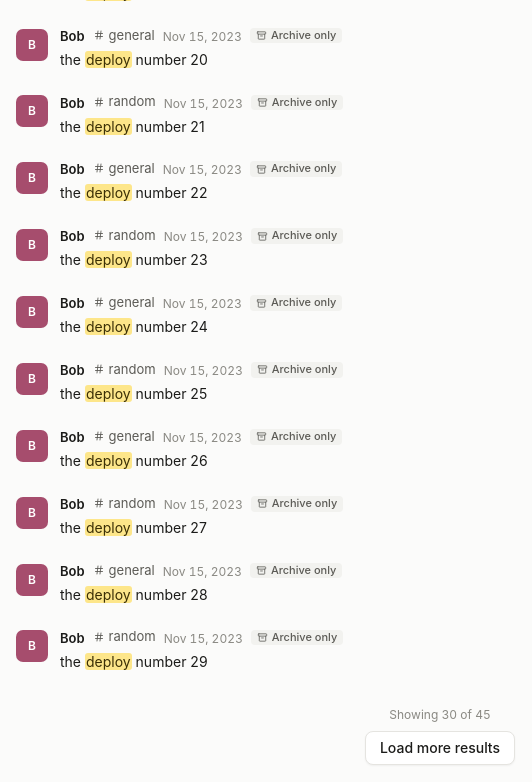
Test: SearchPage › loads more results with the next offset
(page scrolled)
Click the button "Load more results".
click(440, 748)  # box top-left (365, 731), bottom-right (515, 765)
(page scrolled)
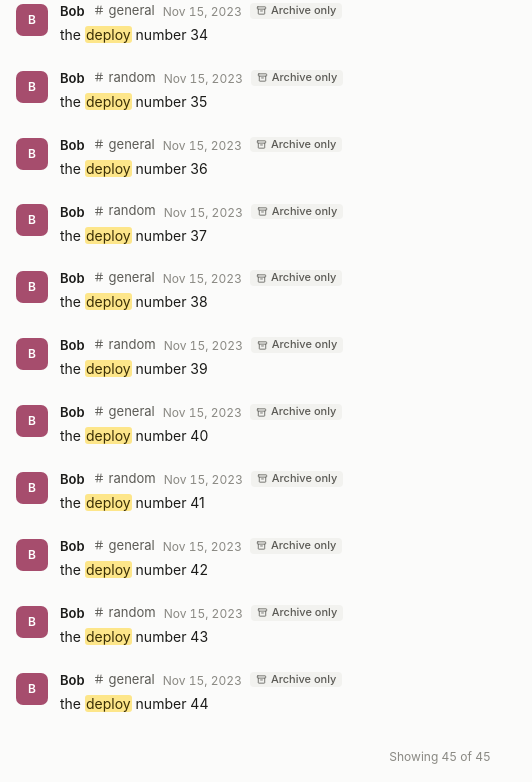
Result: the text "Showing 45 of 45" is shown at top-left (389, 749), bottom-right (491, 765)
Result: the button "Load more results" is gone
